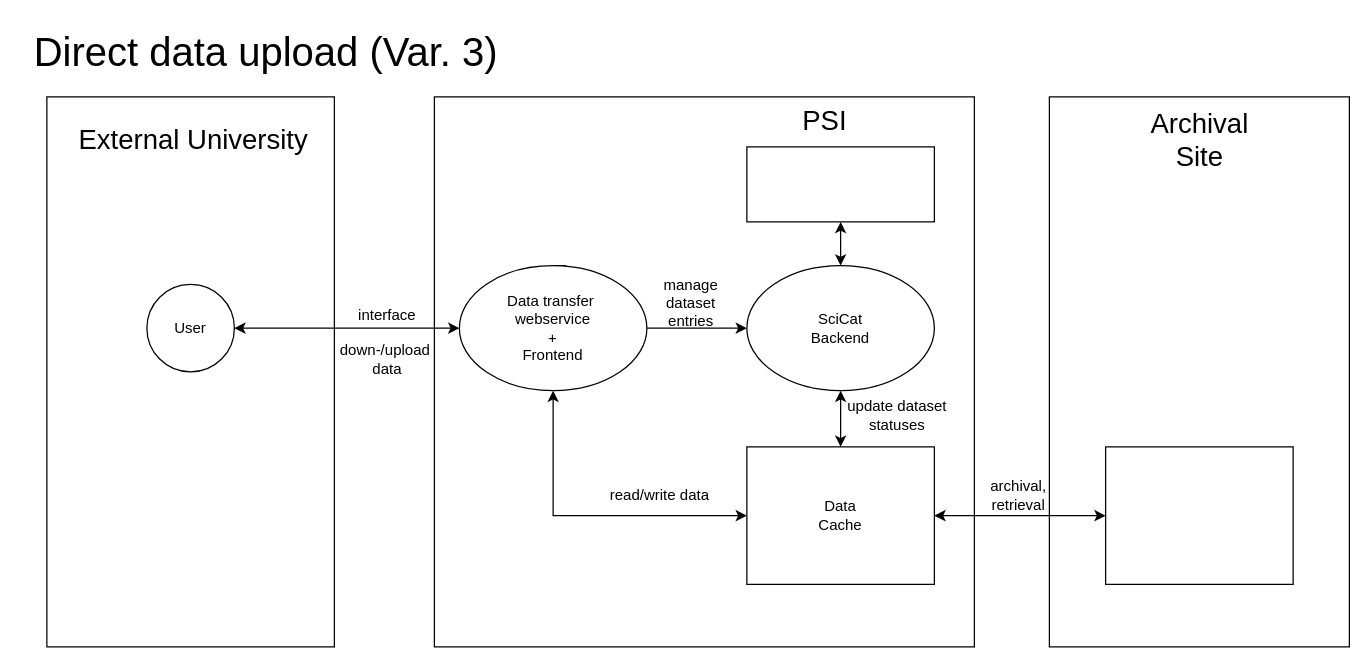
This 1371x669 diagram has some shape labels left out. Each missing label, with the centre of its shape:
"SC Database" belongs at [840,184].
"Tape storage" belongs at [1198,515].
